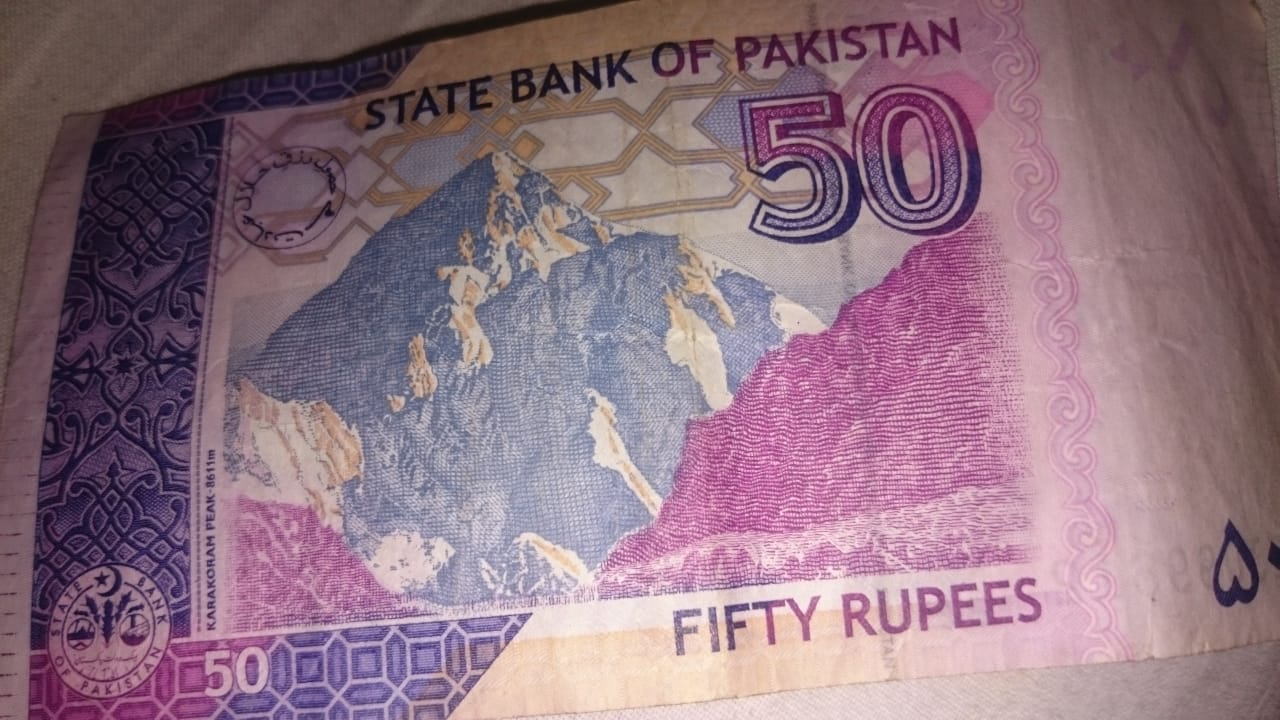50 rupee: (38, 9, 1269, 688)
